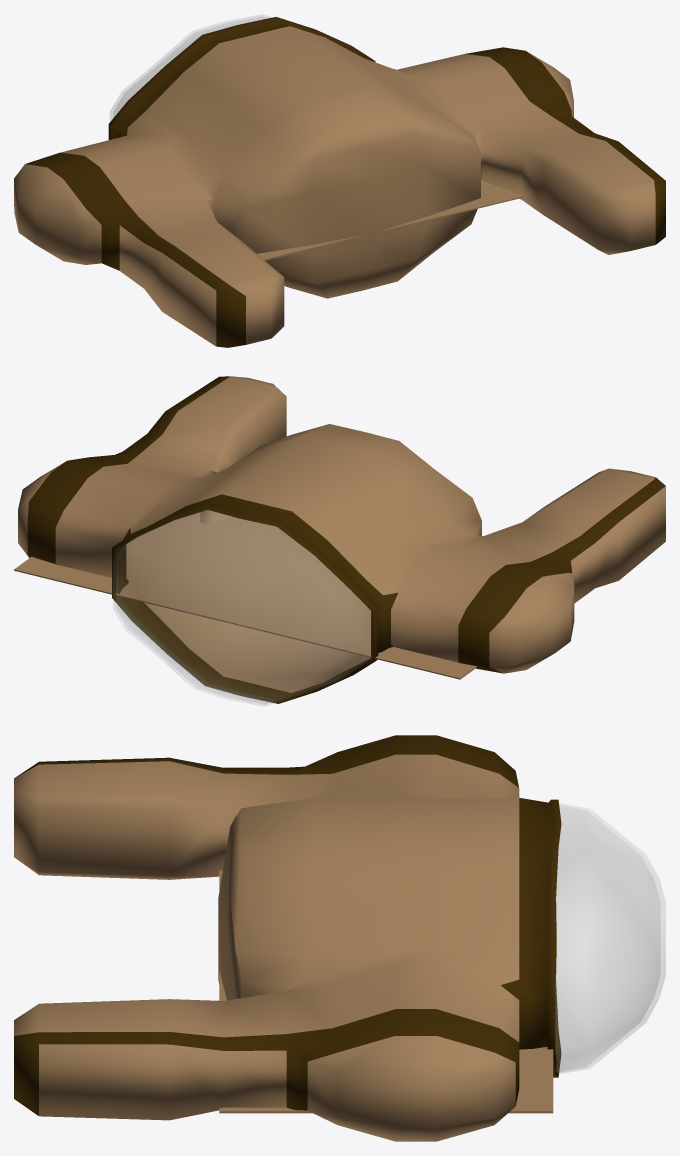
The model's file is Spaceship player(1).fbx.
The picture shows the model from 3 angles, top to bottom: view 1: azimuth 30°, elevation 25°; view 2: azimuth 150°, elevation 25°; view 3: azimuth 270°, elevation 25°; orthographic projection. The views are drawn at different scales.
Parts seen in each view (by area): view 1: Cube; view 2: Cube; view 3: Cube.
Part boxes in pixels (box(x1,y1,x2,y2)): Cube: box(14, 14, 665, 347); Cube: box(14, 376, 665, 706); Cube: box(14, 735, 665, 1141).
Size of the model in its own units: 13397 by 4411 by 10974.
